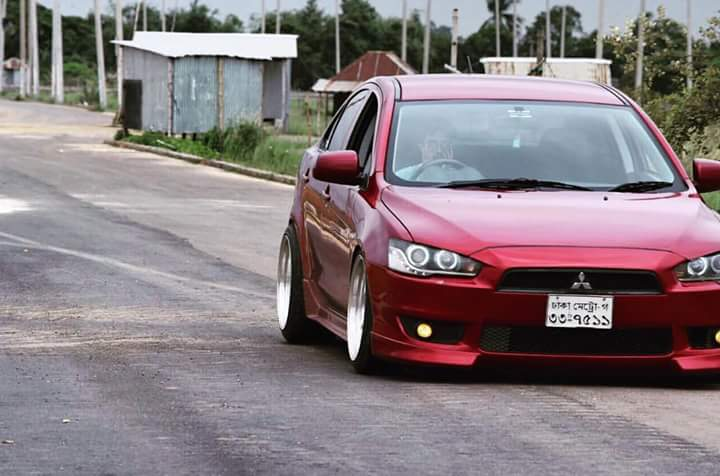registration_plate: (545, 293, 613, 329)
